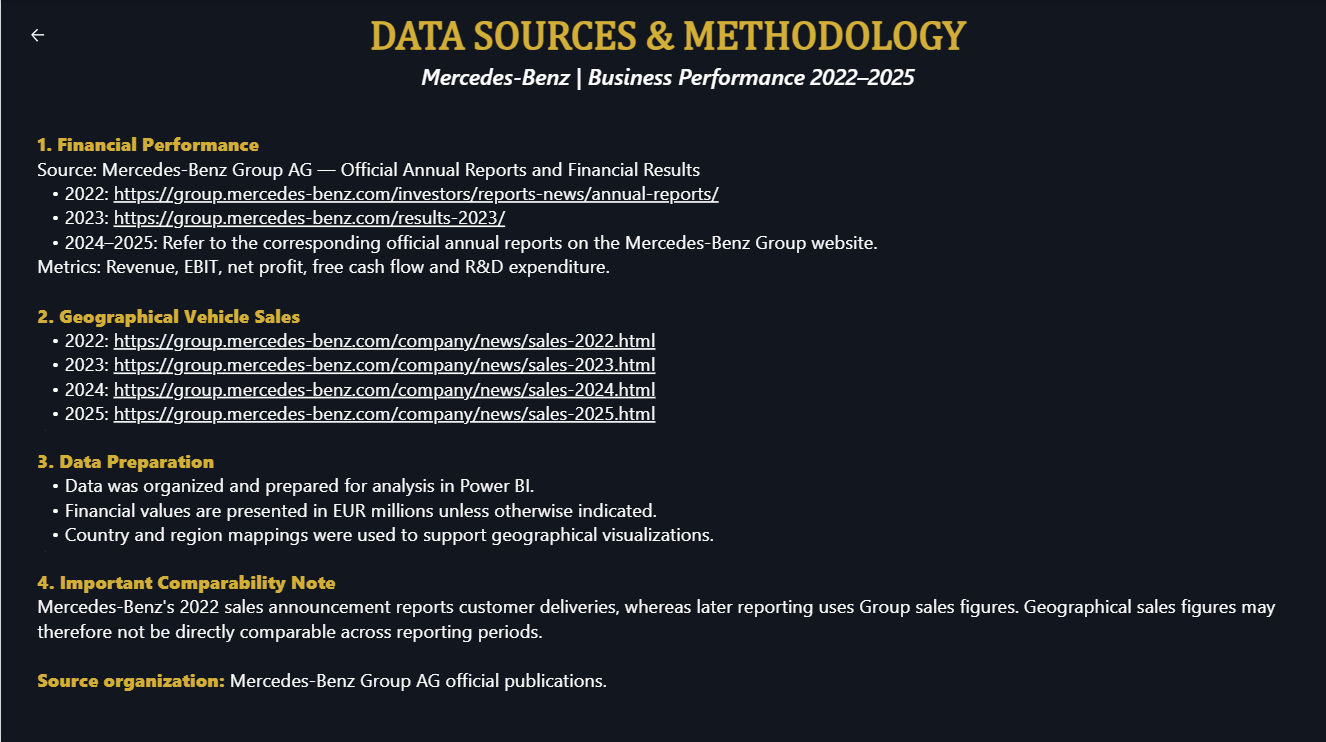

What the dashboard file says about the page in this screenshot:
{"tool":"powerbi","page":{"name":"Data Sources","canvas":[1920,1080],"ordinal":1},"visuals":[{"type":"textbox","box":[99.9,22.2,1731.7,129.5],"z":0},{"type":"textbox","box":[53,192,1832.2,887.4],"z":1000},{"type":"actionButton","box":[0,0,99.9,61.1],"z":2000},{"type":"actionButton","box":[3.7,22.2,99.9,61.1],"z":3000}]}

Visuals, with their boxes in screenshot pixels (x1, y1, x2, y2), scaled from the page's 1920x1080 canvas onto the 1326x742 screenshot:
textbox: 69, 15, 1265, 104
textbox: 37, 132, 1302, 741
actionButton: 0, 0, 69, 42
actionButton: 3, 15, 72, 57
